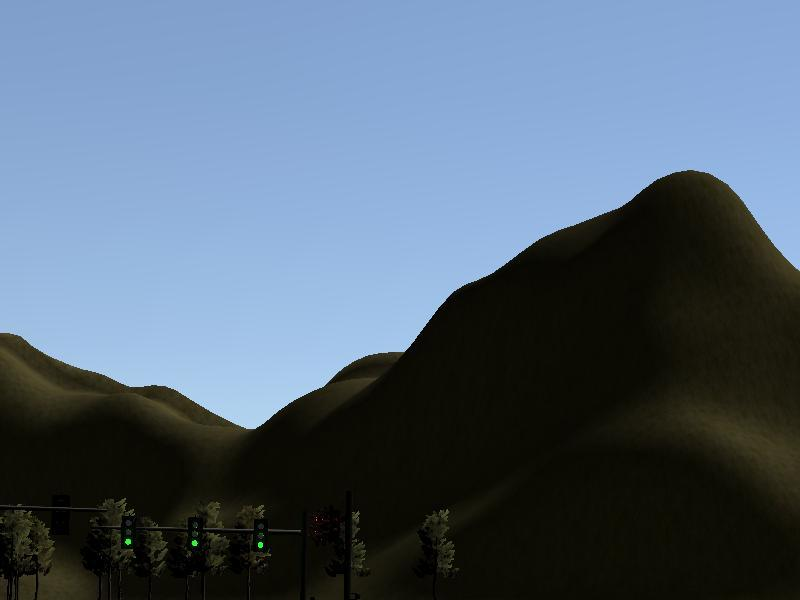Green: (250, 518, 268, 554), (186, 515, 201, 550), (121, 515, 135, 551)
